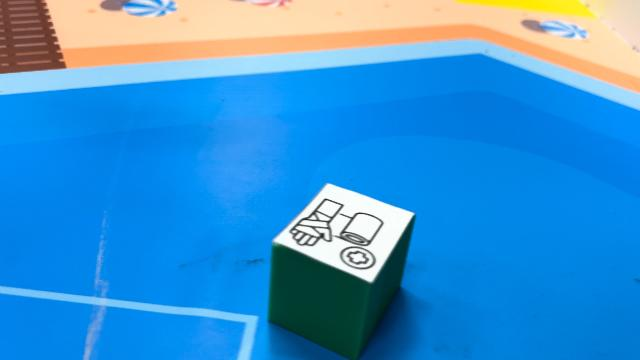bandage: (268, 182, 417, 358)
